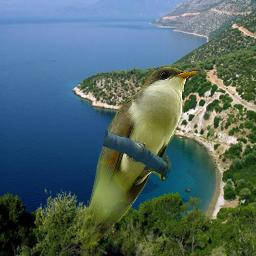Cuckoo: (77, 65, 203, 249)
